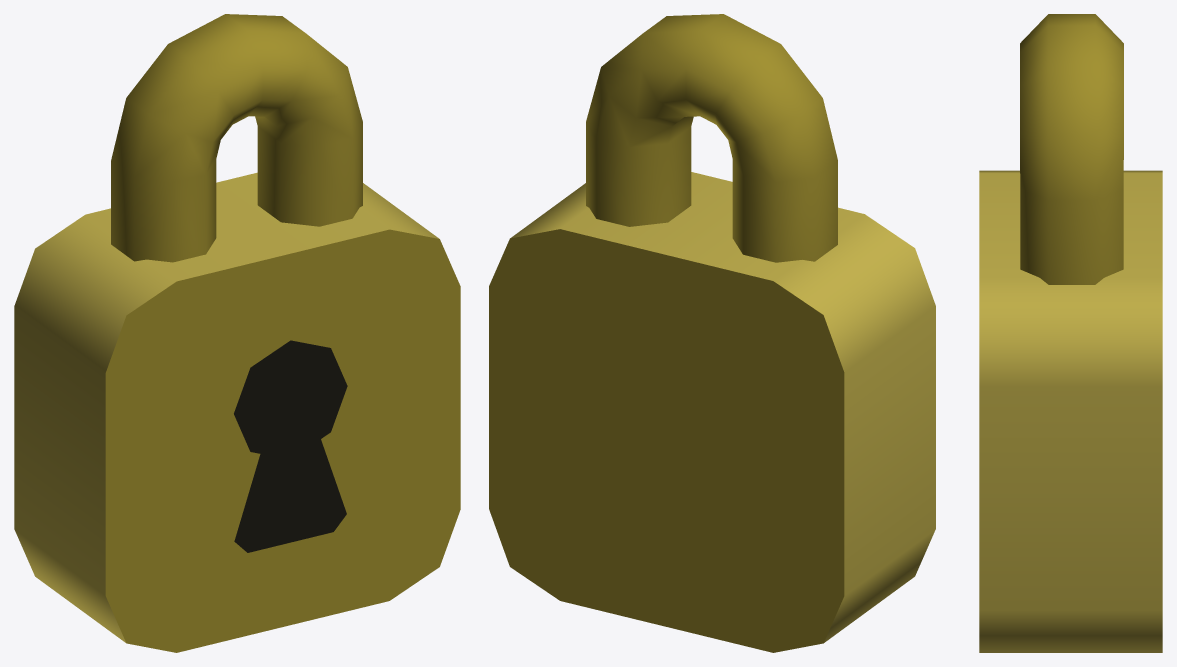
File: Object_Padlock_Mesh.fbx
The picture shows the model from 3 angles, left to right: view 1: azimuth 30°, elevation 25°; view 2: azimuth 150°, elevation 25°; view 3: azimuth 270°, elevation 25°; orthographic projection.
Parts seen in each view (by area): view 1: Object_Padlock_Mesh; view 2: Object_Padlock_Mesh; view 3: Object_Padlock_Mesh.
Boxes of the visible parts, x1=… form: Object_Padlock_Mesh: x1=14, y1=14, x2=460, y2=652; Object_Padlock_Mesh: x1=489, y1=14, x2=935, y2=652; Object_Padlock_Mesh: x1=979, y1=14, x2=1162, y2=652.
Size of the model in its own units: 0.1367 by 0.2099 by 0.0659.
